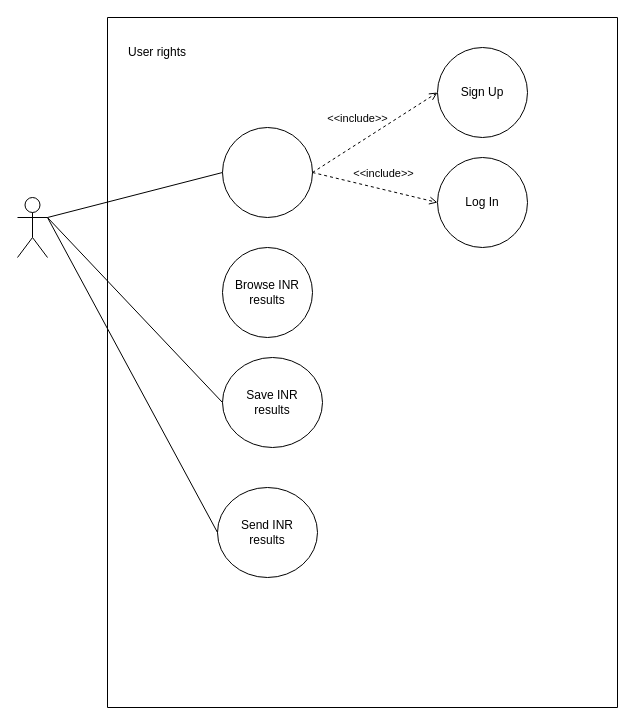
This 635x725 diagram has some shape labels left out. Each missing label, with the centre of its shape:
Access to web app: [267,172]
User: [32,227]
